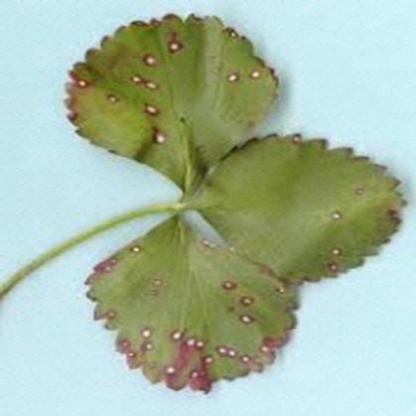Strawberry_Leaf_Spot: (62, 11, 281, 198), (82, 209, 298, 394), (185, 132, 409, 286)
